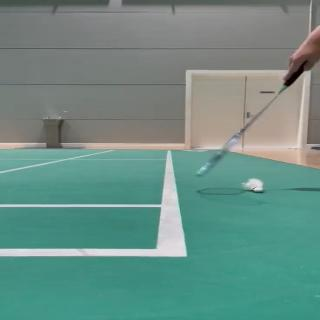Shuttle: (242, 178, 264, 193)
